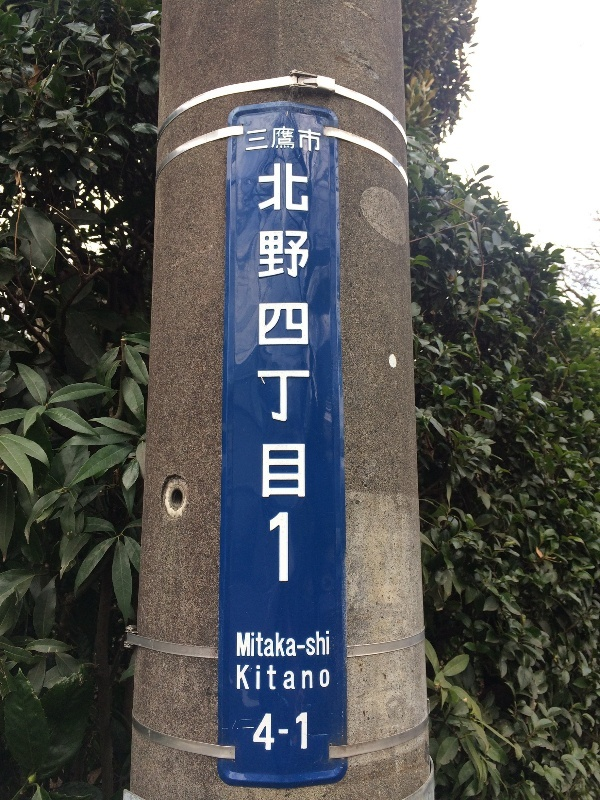text: (273, 163, 288, 584), (289, 163, 304, 584), (259, 163, 272, 584), (305, 163, 313, 584), (257, 712, 272, 754), (273, 712, 288, 754), (289, 712, 304, 754), (305, 127, 321, 154), (241, 631, 256, 659), (257, 631, 272, 659), (273, 631, 288, 659), (289, 631, 304, 659), (305, 631, 320, 659), (241, 664, 256, 692), (257, 664, 272, 692), (273, 664, 288, 692), (289, 664, 304, 692), (305, 664, 320, 692), (257, 127, 272, 154), (273, 127, 288, 154), (289, 127, 304, 154), (321, 664, 331, 692), (321, 631, 330, 659), (248, 127, 256, 154), (305, 712, 308, 754), (236, 631, 240, 659), (237, 664, 240, 692), (254, 712, 256, 754)
